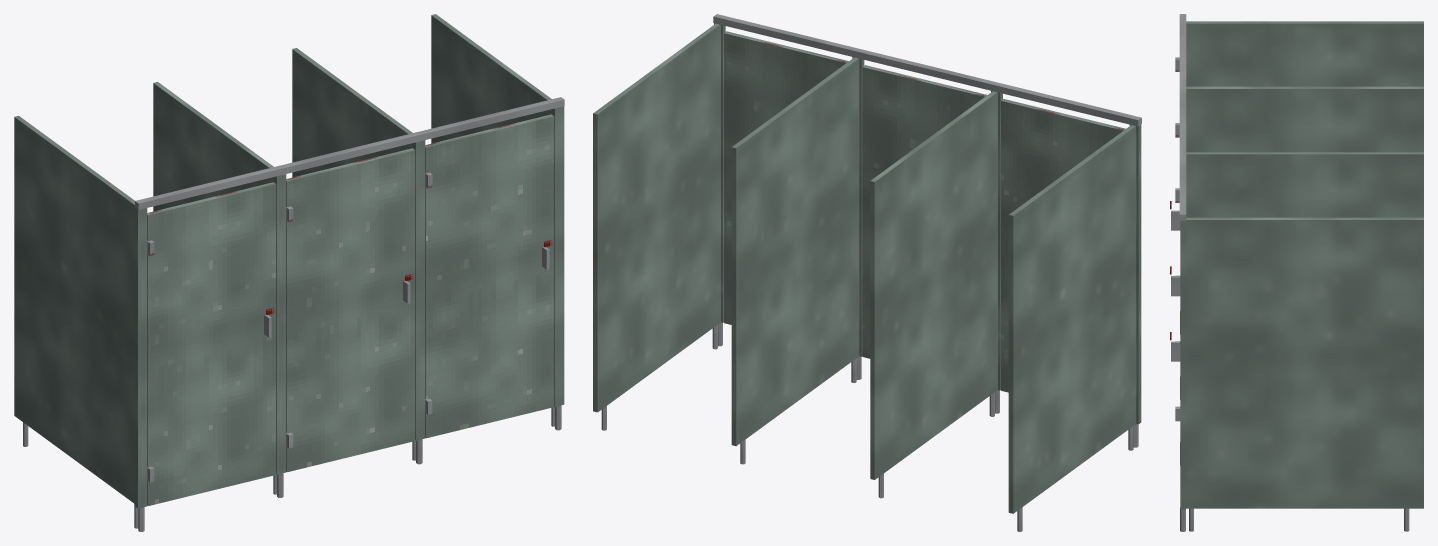
The model's file is Toilet_Stalls.fbx.
3 renders of one model, left to right at view 1: azimuth 30°, elevation 25°; view 2: azimuth 150°, elevation 25°; view 3: azimuth 270°, elevation 25°, orthographic. The views are drawn at different scales.
Parts seen in each view (by area): view 1: туалетные кабинки, дверь кабинки 1, дверь кабинки 3, дверь кабинки 2; view 2: туалетные кабинки, дверь кабинки 2, дверь кабинки 1, дверь кабинки 3; view 3: туалетные кабинки, дверь кабинки 3.
Boxes of the visible parts, x1,y1,x2,y2 form: туалетные кабинки: [14, 14, 564, 531]; дверь кабинки 1: [147, 182, 276, 505]; дверь кабинки 3: [425, 114, 554, 438]; дверь кабинки 2: [286, 148, 415, 472]; туалетные кабинки: [593, 14, 1141, 531]; дверь кабинки 2: [862, 65, 986, 358]; дверь кабинки 1: [1001, 99, 1125, 392]; дверь кабинки 3: [724, 31, 848, 324]; туалетные кабинки: [1179, 14, 1423, 531]; дверь кабинки 3: [1170, 188, 1180, 421].
Bounding box in the file's own units: 2.76 × 2.04 × 1.47.
Materials: 4 (4 with a texture image).
